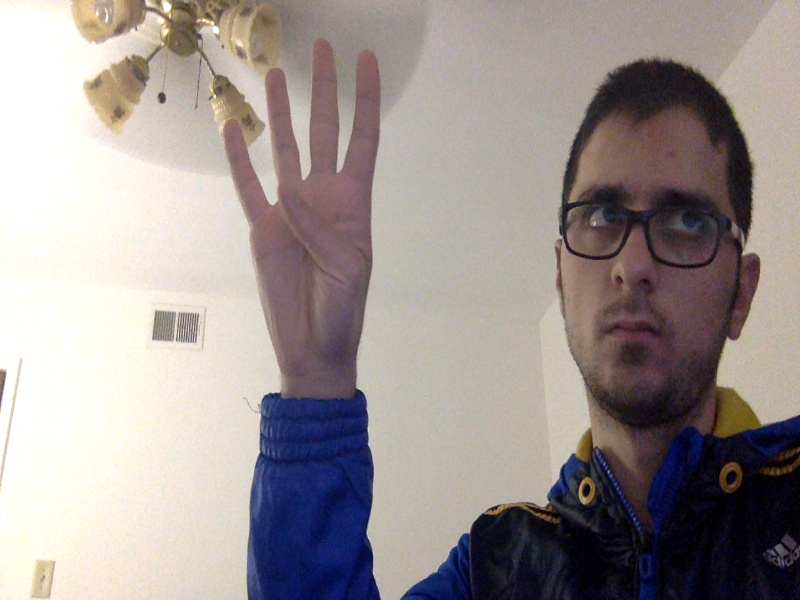4-hand: (223, 38, 379, 376)
